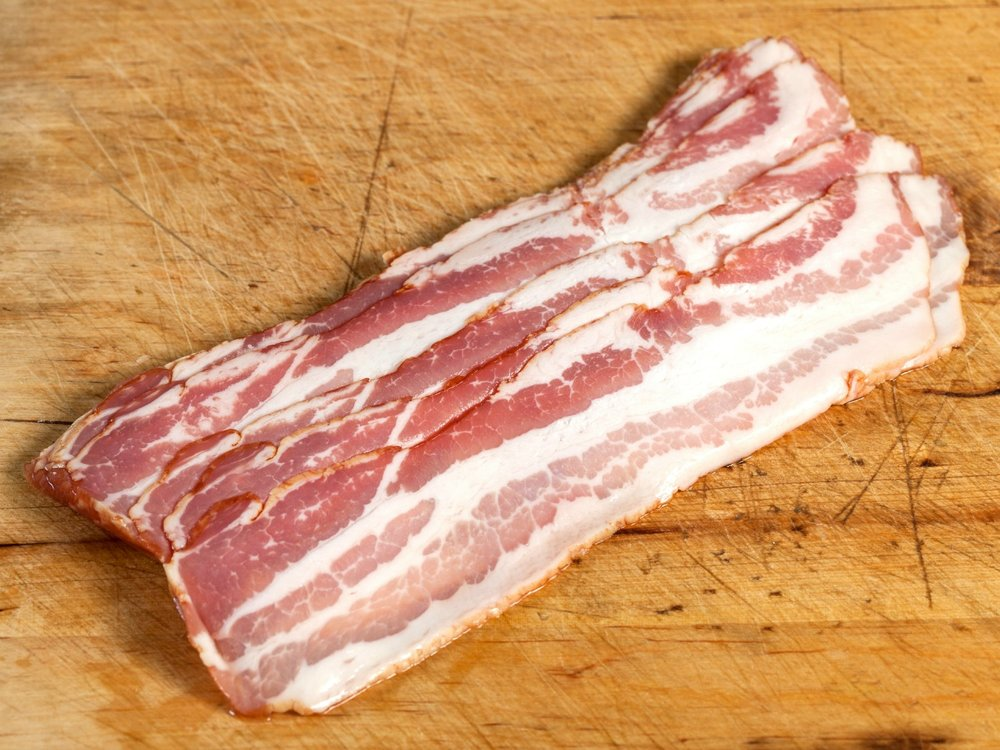bacon: (46, 38, 980, 705)
